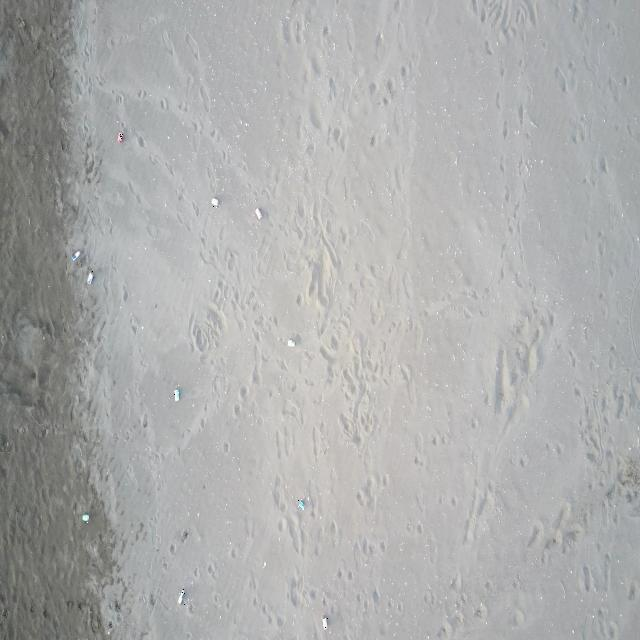Garbage: (176, 587, 186, 604), (71, 249, 80, 260), (173, 387, 180, 400), (287, 337, 295, 347), (255, 207, 261, 220), (212, 196, 219, 207), (81, 512, 88, 523), (85, 272, 92, 283), (296, 499, 303, 510), (116, 131, 123, 141), (322, 615, 327, 627)
